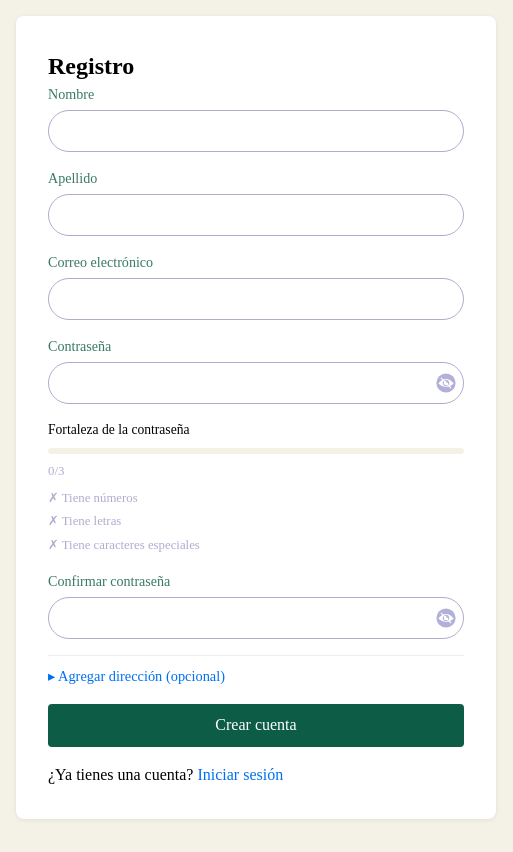
Test: SignUpPage › shows server error when email already exists (409)
Type "John" into the field labelled "Nombre" at (256, 131), box [48,110,464,152]
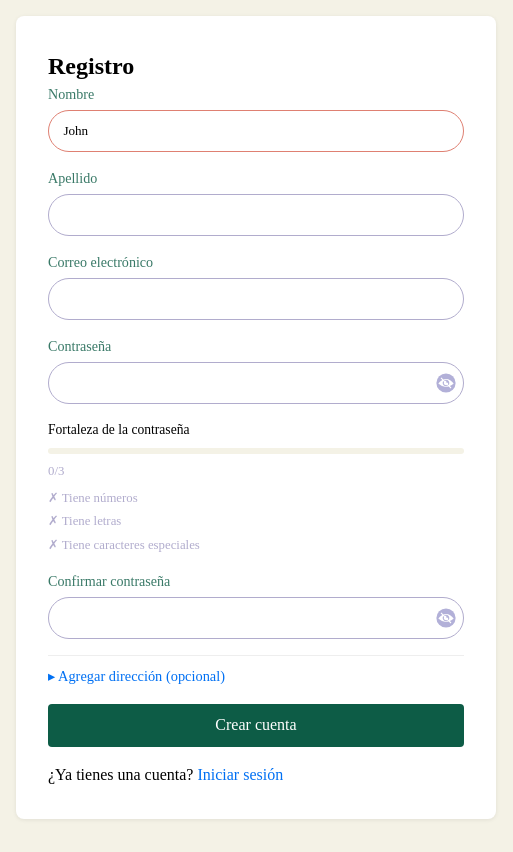
Type "Doe" into the field labelled "Apellido" at (256, 215), box [48,194,464,236]
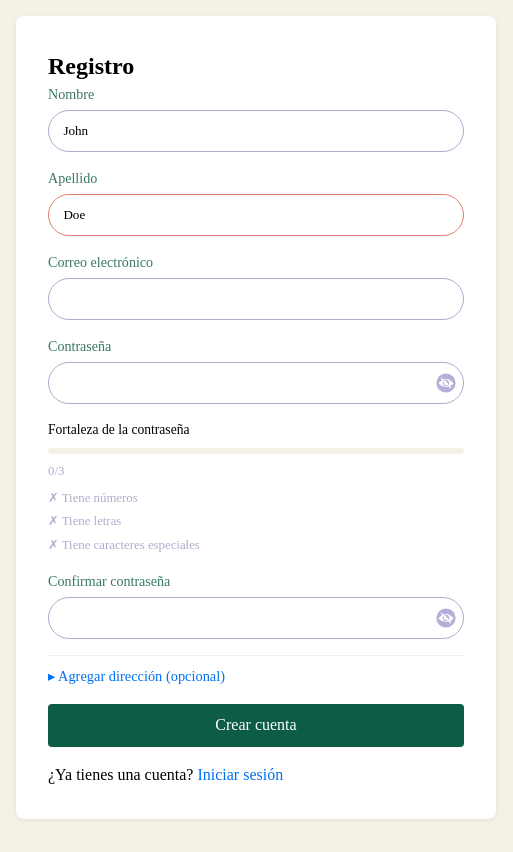
Type "existing@example.com" into the field labelled "Correo electrónico" at (256, 299), box [48,278,464,320]
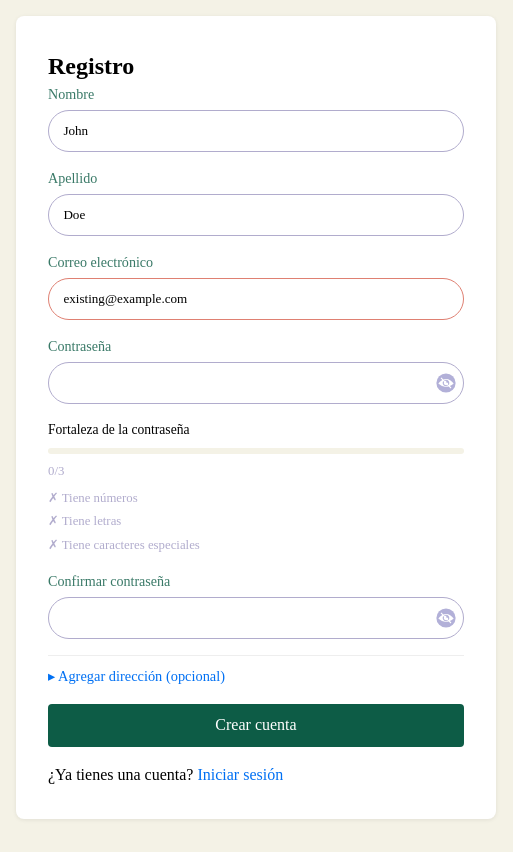
Type "Password123" into the password field labelled "Contraseña" at (256, 383), box [48,362,464,404]
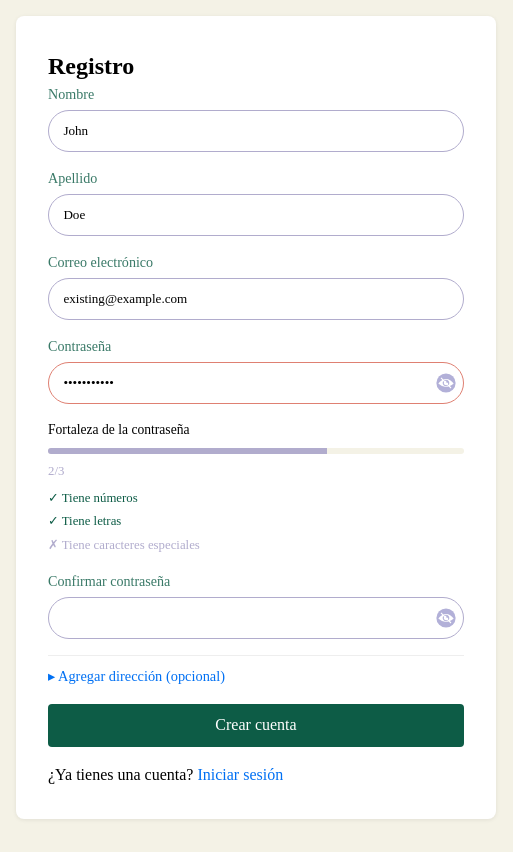
Type "Password123" into the password field labelled "Confirmar contraseña" at (256, 618), box [48,597,464,639]
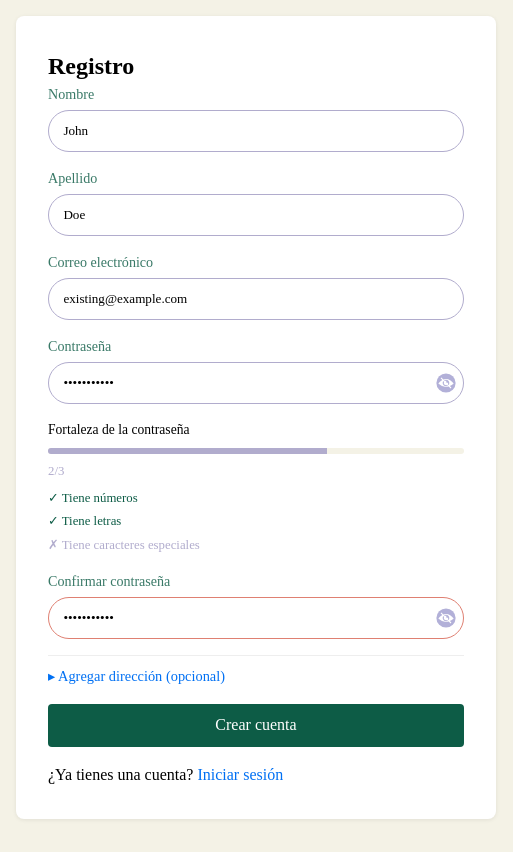
Click the button "Crear cuenta" at (256, 726), box [48,704,464,747]
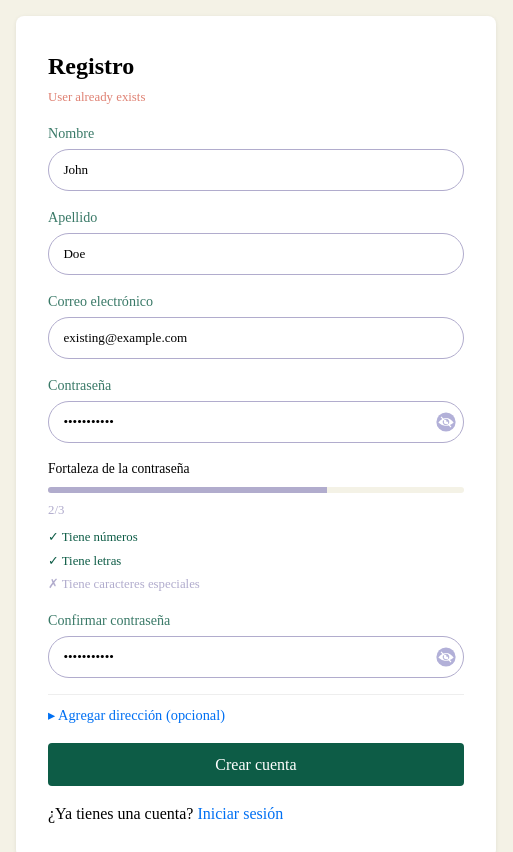
Check: the message "User already exists" is shown, box [48,90,145,104]
